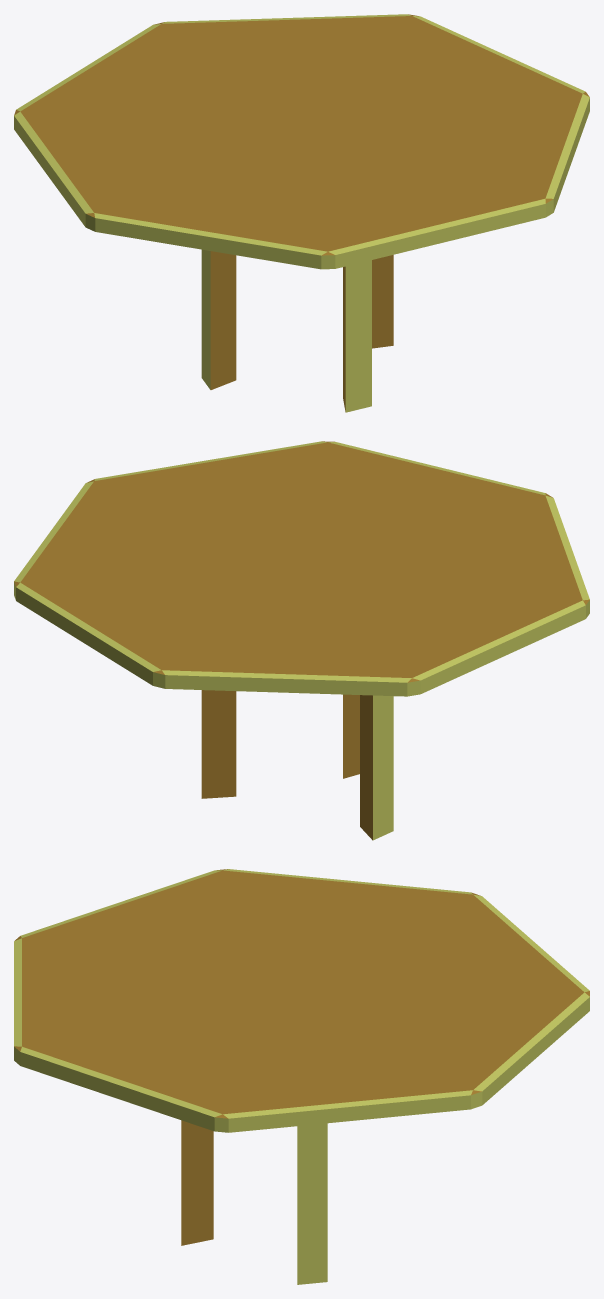
File: Table.fbx
3 renders of one model, top to bottom at view 1: azimuth 30°, elevation 25°; view 2: azimuth 150°, elevation 25°; view 3: azimuth 270°, elevation 25°, orthographic. The views are drawn at different scales.
Parts seen in each view (by area): view 1: Table; view 2: Table; view 3: Table.
Part boxes in pixels (x1,y1,x2,y2): Table: [14, 14, 589, 412]; Table: [14, 441, 589, 840]; Table: [14, 869, 589, 1284].
Size of the model in its own units: 1.38 by 1.35 by 0.6381.
